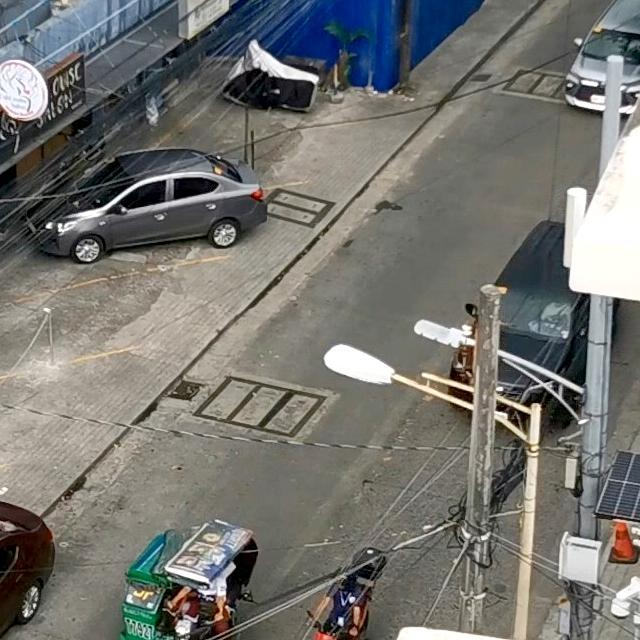Car: (433, 192, 623, 443), (12, 128, 310, 274), (0, 477, 98, 640)
Motorcycle: (290, 534, 378, 640)
Tricycle: (108, 514, 283, 640)
